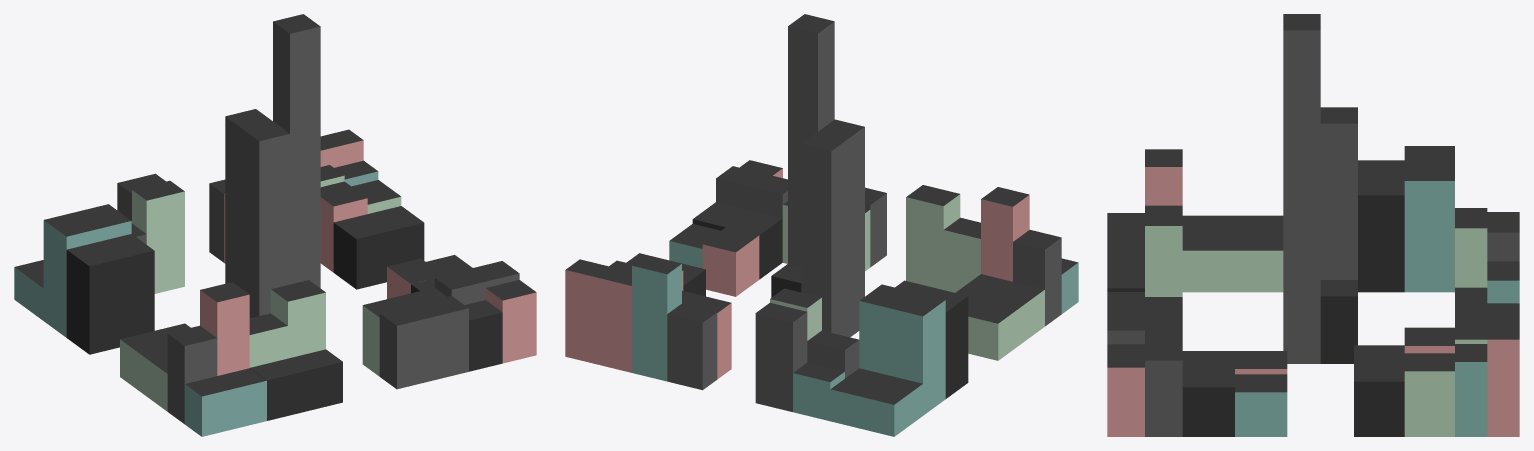
The model's file is Buildings.FBX.
3 renders of one model, left to right at view 1: azimuth 30°, elevation 25°; view 2: azimuth 150°, elevation 25°; view 3: azimuth 270°, elevation 25°, orthographic. The views are drawn at different scales.
Parts seen in each view (by area): view 1: Object004, Object002, Object019, Object012, Object024, Object018, Object021, Object014, Object008, Object022, Object015, Object020 (+15 smaller); view 2: Object004, Object018, Object002, Object028, Object017, Object009, Object023, Object005, Object015, Object010, Object022, Object032 (+15 smaller); view 3: Object002, Object017, Object018, Object004, Object019, Object024, Object030, Object028, Object034, Object025, Object015, Object033 (+15 smaller).
Part boxes in pixels (x1,y1,x2,y2): Object004: [225, 109, 289, 318]; Object002: [273, 14, 320, 288]; Object019: [66, 234, 154, 354]; Object012: [379, 296, 468, 389]; Object024: [333, 206, 424, 289]; Object018: [43, 204, 131, 337]; Object021: [184, 368, 266, 436]; Object014: [250, 349, 342, 420]; Object008: [132, 180, 184, 293]; Object022: [200, 282, 249, 375]; Object015: [270, 280, 325, 358]; Object020: [167, 325, 217, 423]; Object004: [801, 119, 864, 337]; Object018: [859, 284, 945, 415]; Object002: [788, 14, 834, 266]; Object028: [565, 259, 631, 372]; Object017: [955, 274, 1044, 360]; Object009: [632, 255, 681, 381]; Object023: [830, 368, 922, 436]; Object005: [755, 303, 807, 411]; Object015: [906, 185, 960, 289]; Object010: [667, 303, 717, 390]; Object022: [981, 187, 1029, 281]; Object032: [702, 227, 759, 296]; Object002: [1283, 14, 1320, 363]; Object017: [1182, 215, 1283, 292]; Object018: [1404, 146, 1454, 292]; Object004: [1320, 107, 1357, 279]; Object019: [1358, 160, 1404, 292]; Object024: [1354, 345, 1404, 436]; Object030: [1182, 351, 1234, 436]; Object028: [1487, 303, 1519, 436]; Object034: [1145, 324, 1182, 436]; Object025: [1404, 353, 1454, 436]; Object015: [1145, 205, 1182, 296]; Object033: [1107, 349, 1144, 436].
Size of the model in its own units: 6095 by 5278 by 5915.
